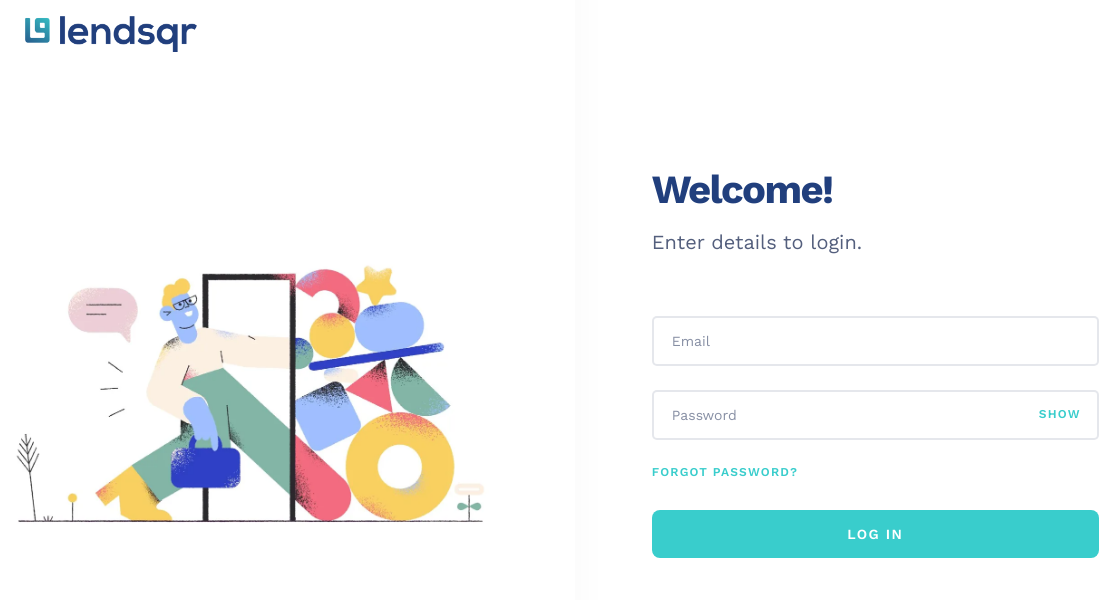
LoginPage › shows field errors and does not sign in when the form is empty
Click the button "Log in".
click(875, 534)  # box [652, 510, 1099, 558]
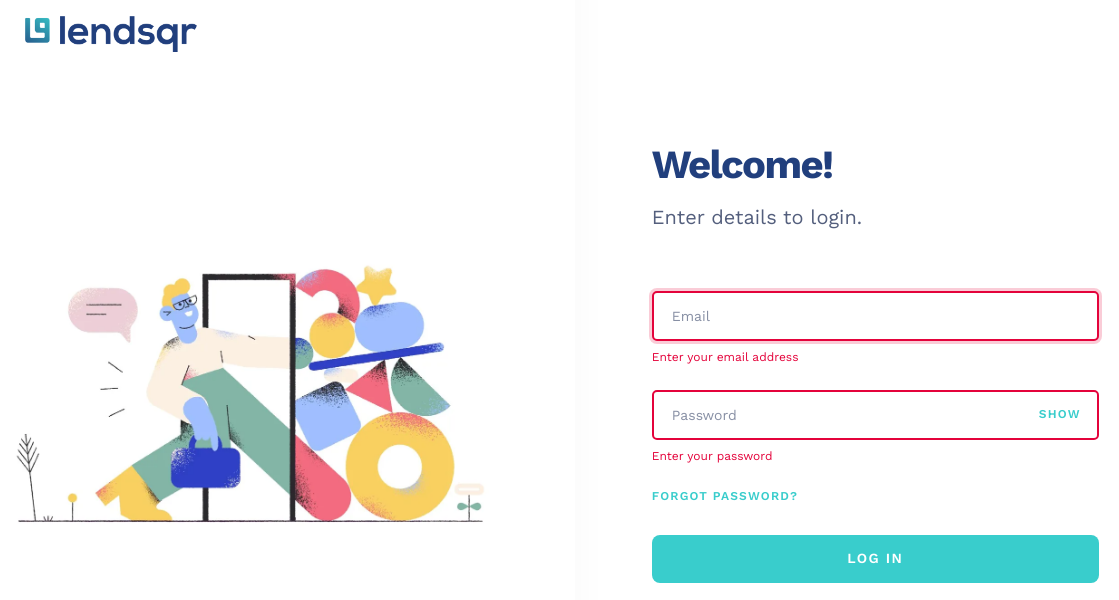
Expected: the text "Enter your email address" is shown, [652, 350, 798, 364]
Expected: the text "Enter your password" is shown, [652, 449, 773, 463]
